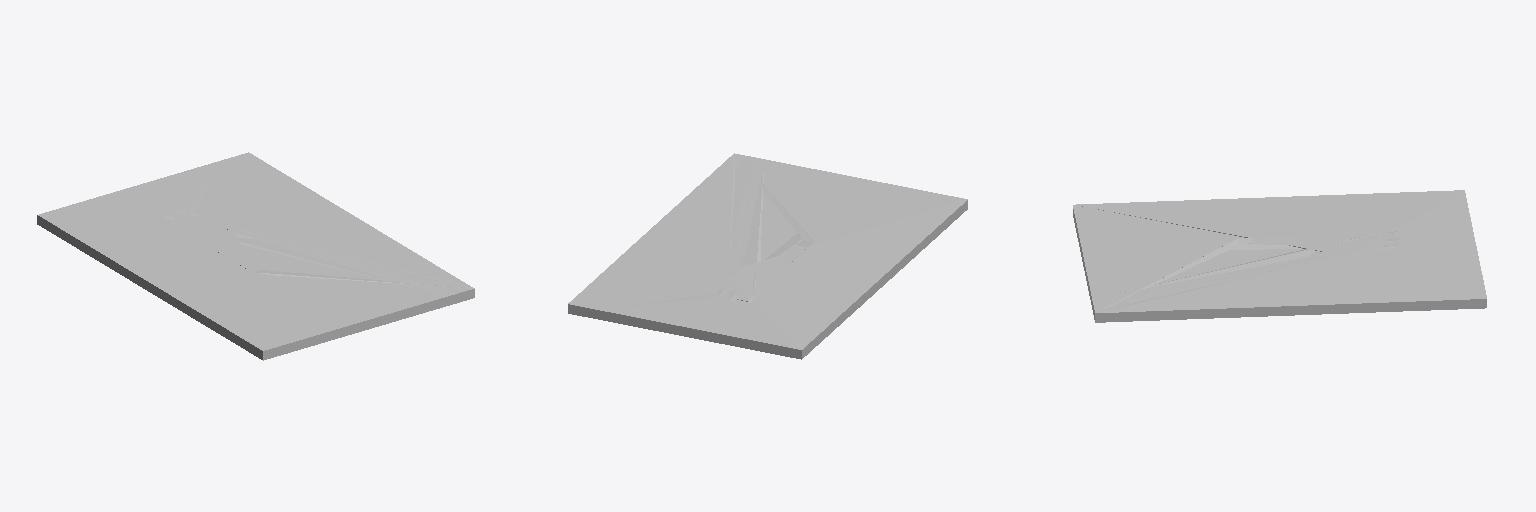
The model's file is laptop.obj.
The picture shows the model from 3 angles: view 1: azimuth 30°, elevation 25°; view 2: azimuth 150°, elevation 25°; view 3: azimuth 270°, elevation 25°; orthographic projection.
Parts seen in each view (by area): view 1: Cylinder011, Box20329, Box20311; view 2: Cylinder011, Box20329, Box20311; view 3: Cylinder011, Box20329, Box20311.
Part boxes in pixels (left/top/right/bottom): Cylinder011: left=38, top=153, right=473, bottom=350; Box20329: left=37, top=152, right=474, bottom=360; Box20311: left=221, top=158, right=454, bottom=296; Cylinder011: left=568, top=154, right=966, bottom=349; Box20329: left=568, top=153, right=967, bottom=359; Box20311: left=652, top=157, right=765, bottom=291; Cylinder011: left=1076, top=190, right=1485, bottom=312; Box20329: left=1073, top=190, right=1486, bottom=322; Box20311: left=1092, top=251, right=1483, bottom=303.
Bounding box in the file's own units: 686 × 27.37 × 975.